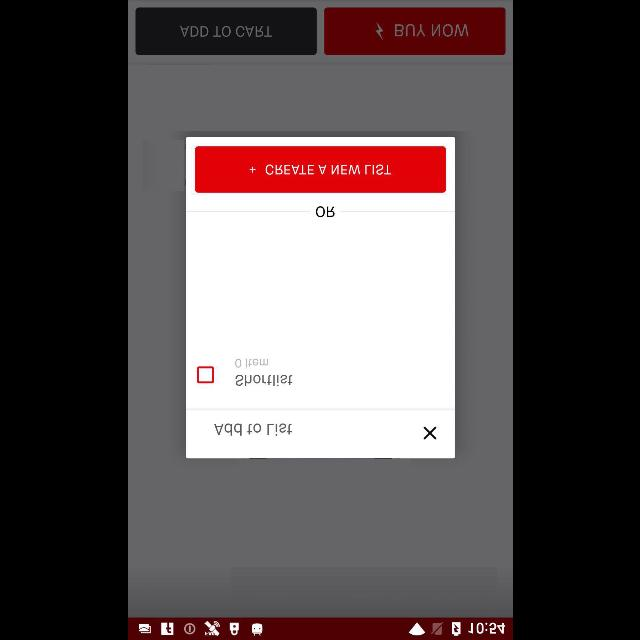checkbox: (195, 368, 212, 384)
icon: (422, 426, 436, 439)
panel: (185, 138, 455, 458)
text: (213, 422, 291, 436), (233, 374, 290, 386), (316, 206, 334, 218)
textbutton: (194, 146, 446, 192), (323, 7, 505, 55), (134, 7, 316, 55)
uppertaskbar: (128, 617, 512, 639)
